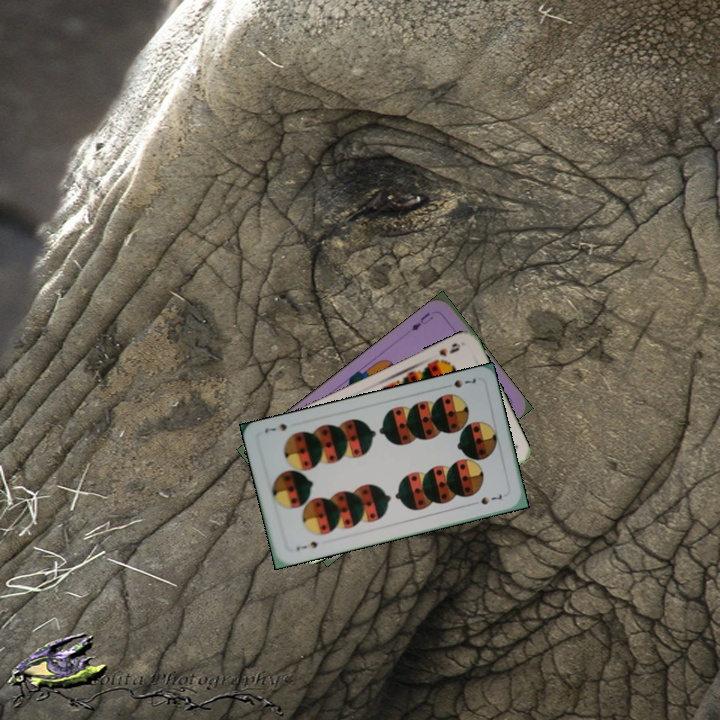EU: (407, 308, 436, 334)
S7: (450, 373, 478, 390), (292, 537, 320, 553)
S9: (427, 339, 463, 367)
